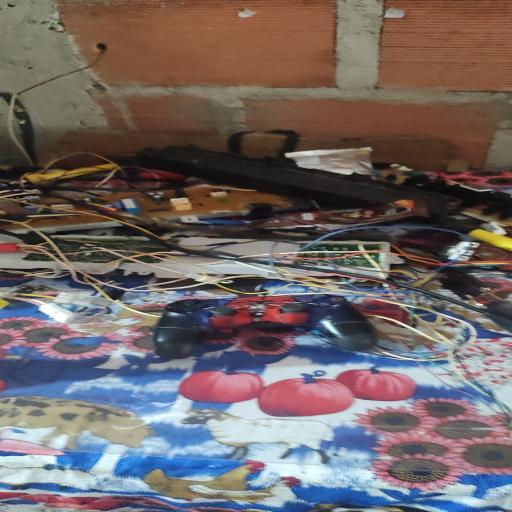ControlPlay4: (153, 295, 377, 359)
